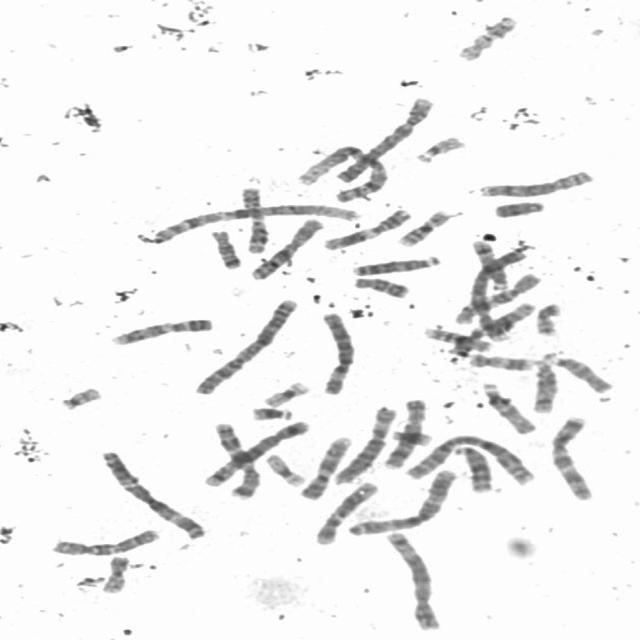A1: (134, 200, 366, 246), (289, 141, 394, 203)
A2: (190, 294, 302, 396), (400, 432, 540, 486)
A3: (93, 446, 209, 540), (345, 464, 460, 537)
B4: (329, 92, 438, 186), (478, 248, 532, 344)
B5: (199, 417, 312, 488), (380, 526, 444, 632)
C10: (449, 270, 543, 325), (47, 525, 164, 557)
C11: (318, 205, 416, 251), (235, 184, 269, 255)
C12: (445, 299, 537, 357), (309, 478, 382, 546)
C6: (330, 402, 400, 485), (313, 308, 358, 397)
C7: (544, 411, 598, 502), (208, 417, 264, 501)
C8: (475, 167, 596, 198), (379, 394, 428, 470)
C9: (294, 432, 355, 501), (107, 314, 216, 347)
D13: (346, 252, 442, 278), (449, 441, 496, 494)
D14: (466, 236, 511, 292), (527, 354, 561, 415)
D15: (478, 378, 540, 436), (538, 349, 616, 394)
E16: (394, 207, 454, 247), (419, 323, 495, 353)
E17: (452, 12, 520, 62), (464, 349, 536, 372)
E18: (348, 273, 413, 299), (205, 226, 243, 270)
F19: (261, 450, 308, 488), (258, 377, 314, 408)
F20: (96, 552, 132, 594), (531, 299, 565, 337)
G21: (386, 427, 434, 447), (246, 403, 296, 422)
G22: (411, 133, 466, 164), (56, 384, 104, 411)
X: (246, 217, 324, 281)
Y: (489, 198, 548, 220)
